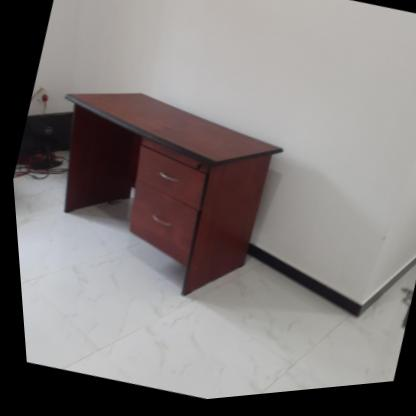Table: (4, 50, 321, 352)
